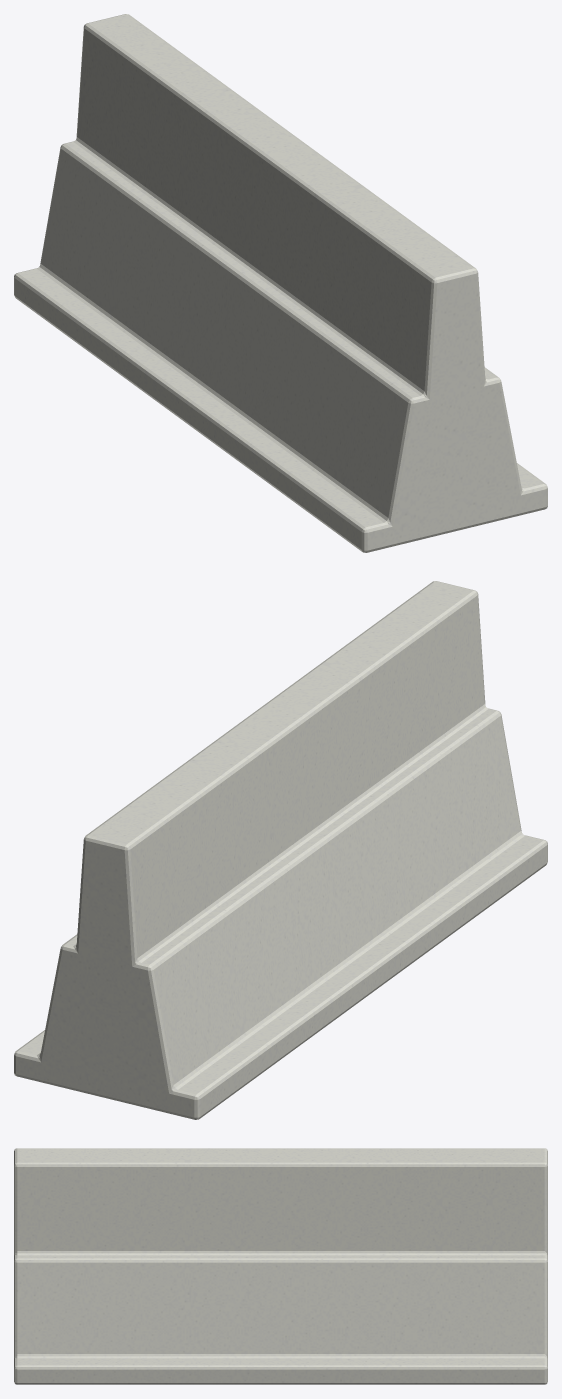
The model's file is krail_white_2m.dae.
3 views of the same model, one above another, from view 1: azimuth 30°, elevation 25°; view 2: azimuth 150°, elevation 25°; view 3: azimuth 270°, elevation 25° (orthographic). The views are drawn at different scales.
Visible parts, largest first — view 1: krail; view 2: krail; view 3: krail.
Part boxes in pixels (<box>): krail: <box>14,14,547,552</box>; krail: <box>14,581,547,1119</box>; krail: <box>14,1148,547,1384</box>.
Bounding box in the file's own units: 0.61 × 2 × 0.81.
1 material, 1 textured.
